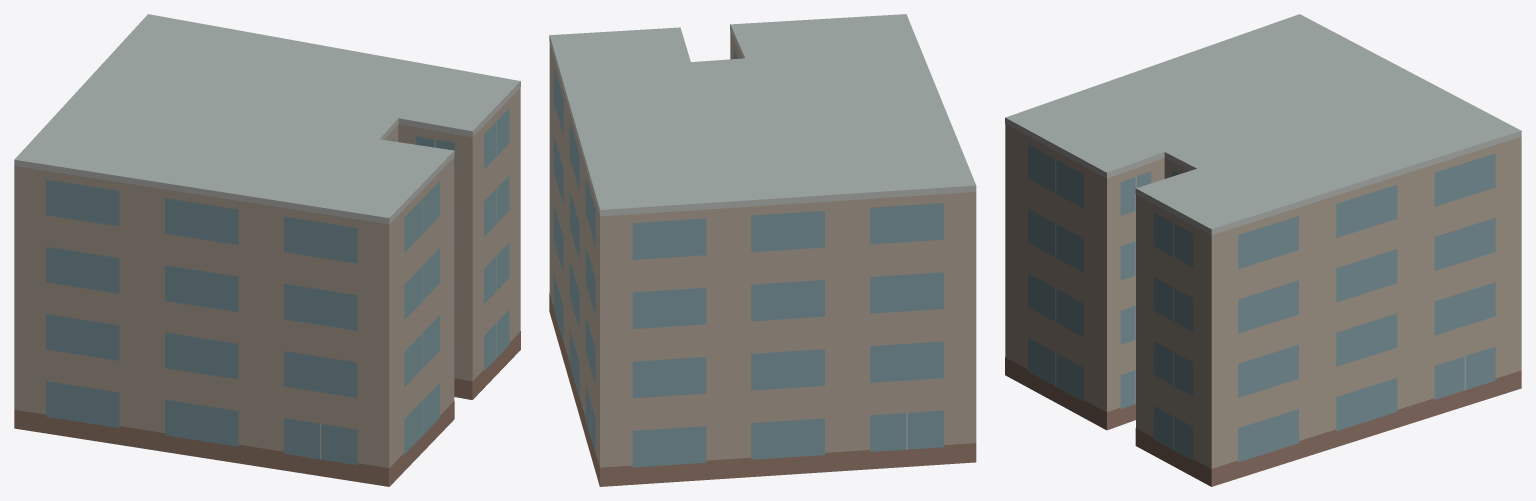
The model's file is survey-upis-33032150.glb.
3 renders of one model, left to right at view 1: azimuth 30°, elevation 25°; view 2: azimuth 150°, elevation 25°; view 3: azimuth 270°, elevation 25°, orthographic. The views are drawn at different scales.
Visible parts, largest first — view 1: survey-upis-33032150.tmp; view 2: survey-upis-33032150.tmp; view 3: survey-upis-33032150.tmp.
Part boxes in pixels (bbox=[...]): survey-upis-33032150.tmp: bbox=[14, 14, 520, 486]; survey-upis-33032150.tmp: bbox=[549, 14, 976, 486]; survey-upis-33032150.tmp: bbox=[1005, 14, 1521, 486].
Size of the model in its own units: 19.01 by 10.6 by 19.27.
